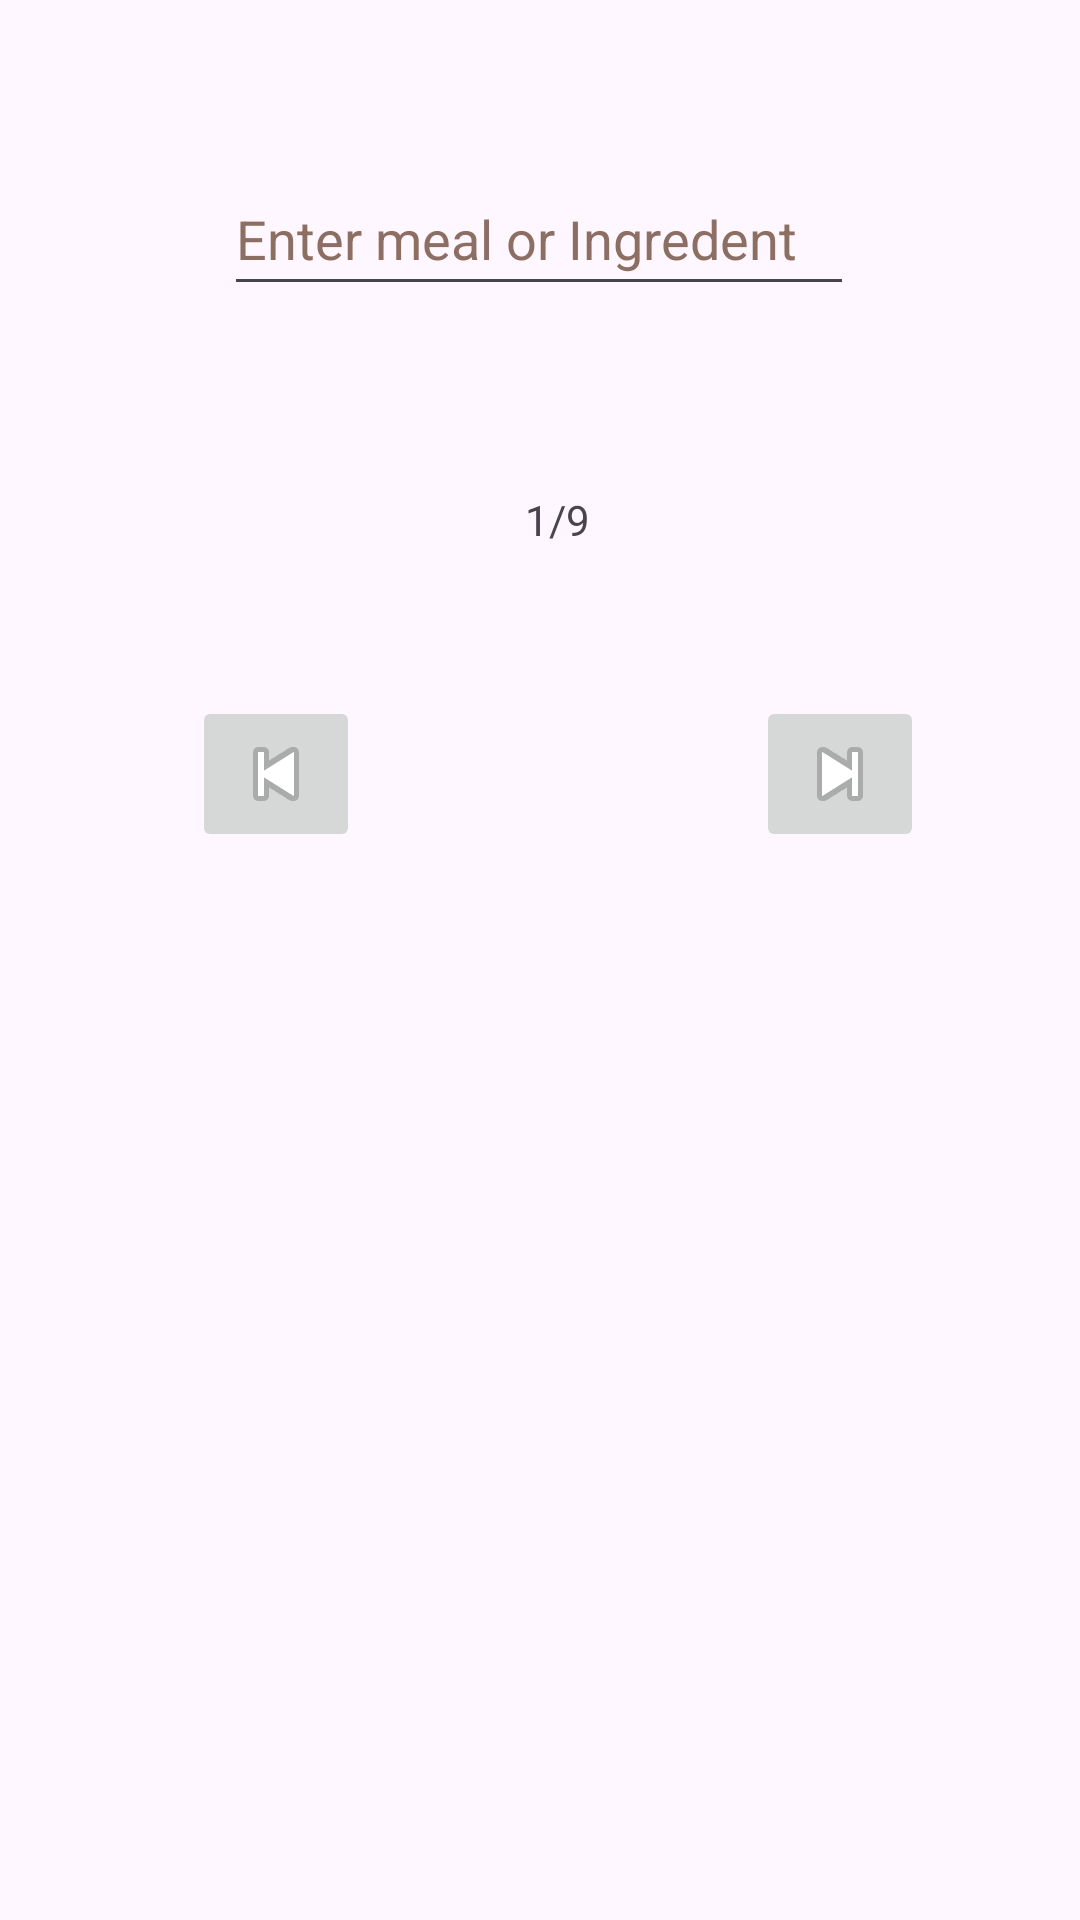

Locate icon controls on the screen. Image size 1080*1920, boxes as (x1, y1, x2, y2).
next: (768, 714, 912, 834)
previous: (204, 714, 348, 834)
